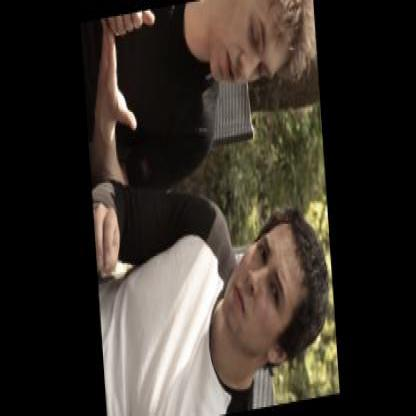knife: (116, 2, 196, 48)
